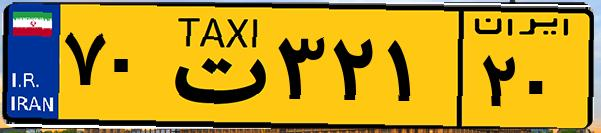0: (525, 38, 570, 115), (110, 28, 158, 98)
1: (385, 28, 445, 110)
2: (330, 28, 385, 110), (475, 38, 525, 113)
3: (270, 28, 330, 110)
7: (57, 26, 110, 100)
ت: (158, 12, 270, 120)
